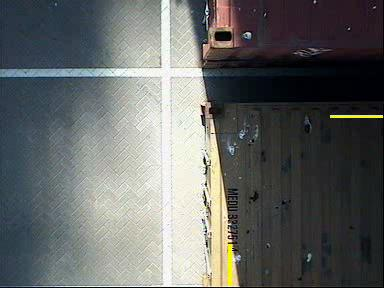groundmarker_2: (105, 67, 176, 115), (115, 208, 172, 248)
